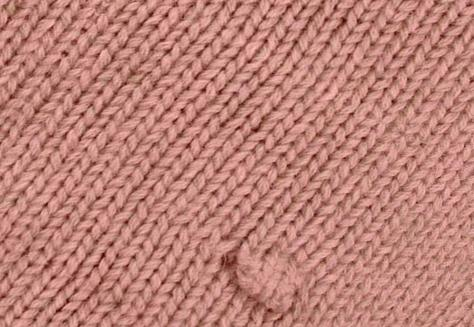knot: (222, 240, 307, 316)
